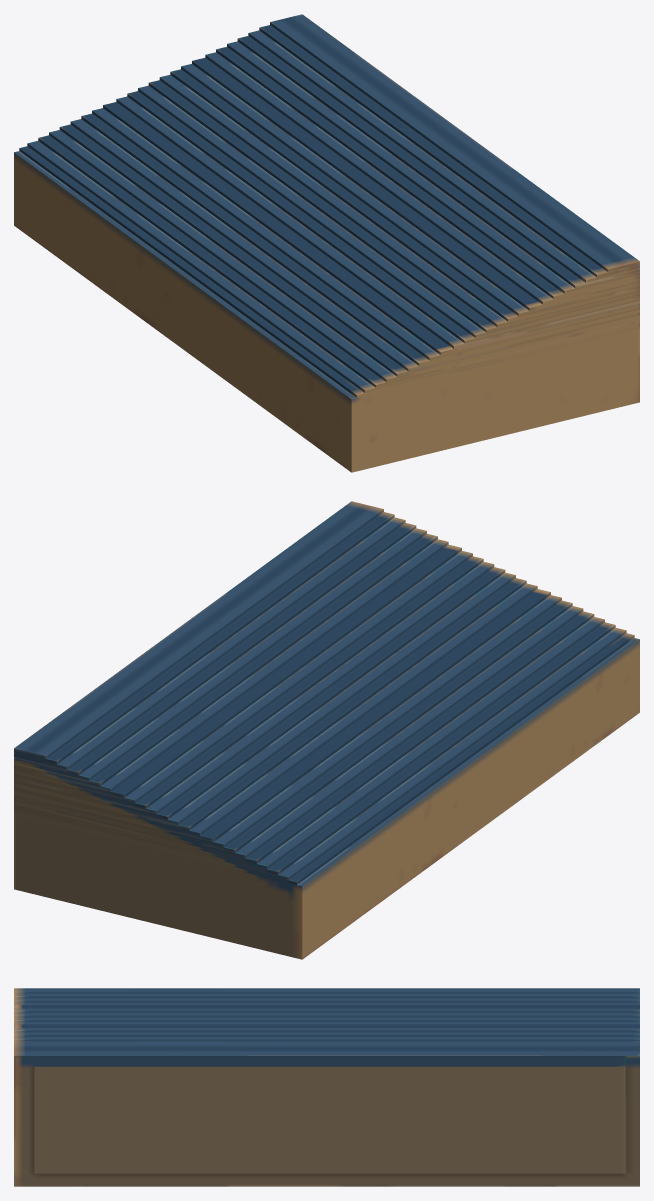
File: Roof_A_00.obj
3 renders of one model, top to bottom at view 1: azimuth 30°, elevation 25°; view 2: azimuth 150°, elevation 25°; view 3: azimuth 270°, elevation 25°, orthographic. The views are drawn at different scales.
Visible parts, largest first — view 1: Roof_A_00; view 2: Roof_A_00; view 3: Roof_A_00.
Part boxes in pixels (box(x1,y1,x2,y2)): Roof_A_00: box(14, 14, 639, 472); Roof_A_00: box(14, 501, 639, 959); Roof_A_00: box(14, 988, 639, 1186).
Size of the model in its own units: 5.35 by 2.5 by 10.85.
